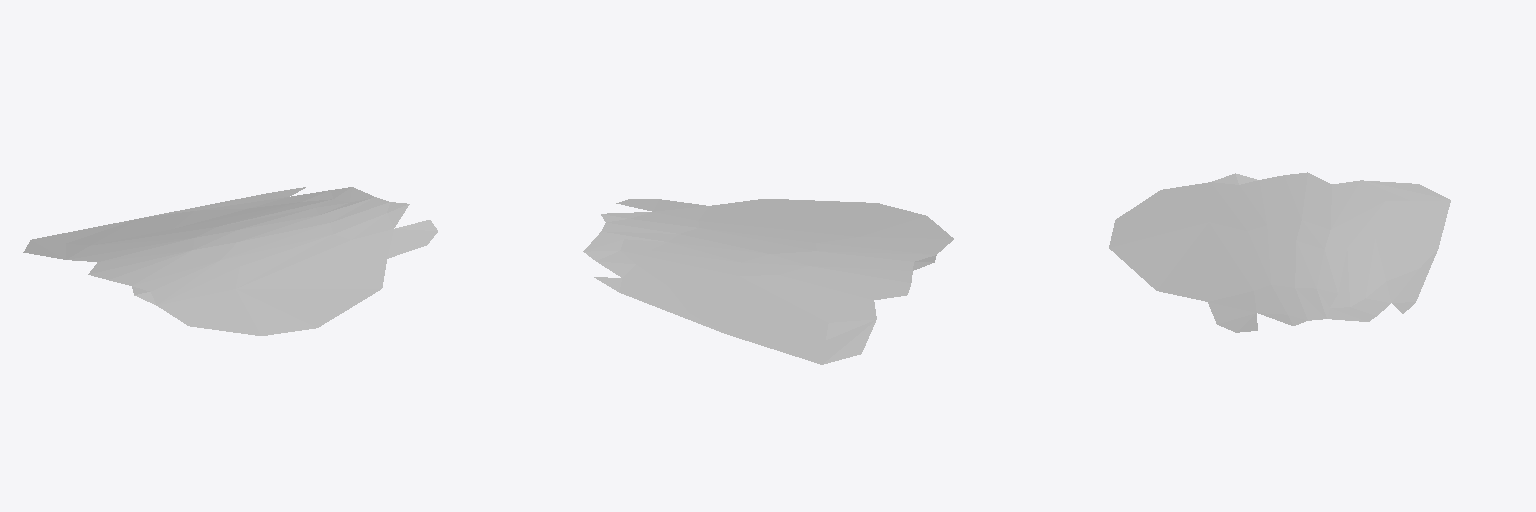
Rendered from my_island_forest_center.obj.
The picture shows the model from 3 angles: view 1: azimuth 30°, elevation 25°; view 2: azimuth 150°, elevation 25°; view 3: azimuth 270°, elevation 25°; orthographic projection.
Parts seen in each view (by area): view 1: Icosphere.005; view 2: Icosphere.005; view 3: Icosphere.005.
Boxes of the visible parts, box(x1,y1,x2,y2) form: Icosphere.005: box(23, 187, 437, 335); Icosphere.005: box(583, 199, 953, 364); Icosphere.005: box(1109, 172, 1450, 332).
Bounding box in the file's own units: 227 × 16.37 × 207.